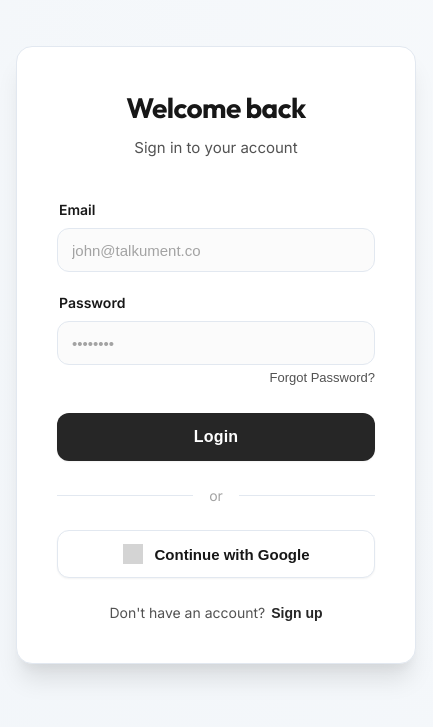
Test: AuthPage › handles Google login error
Click the button "Continue with Google".
click(216, 554)  # box [57, 530, 375, 578]
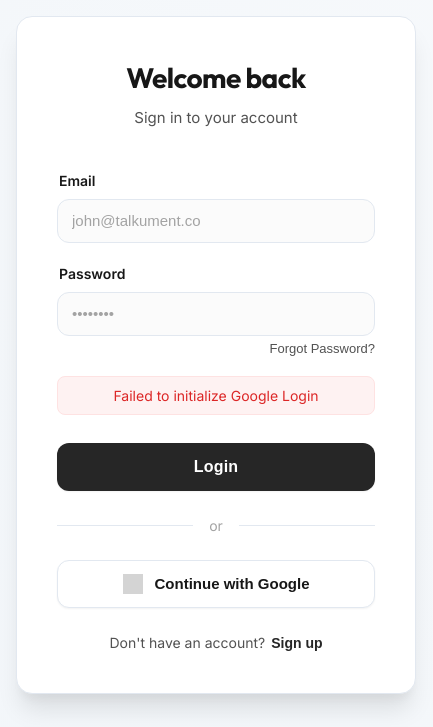
Check: the text "Failed to initialize Google Login" is shown, box [57, 376, 375, 415]
